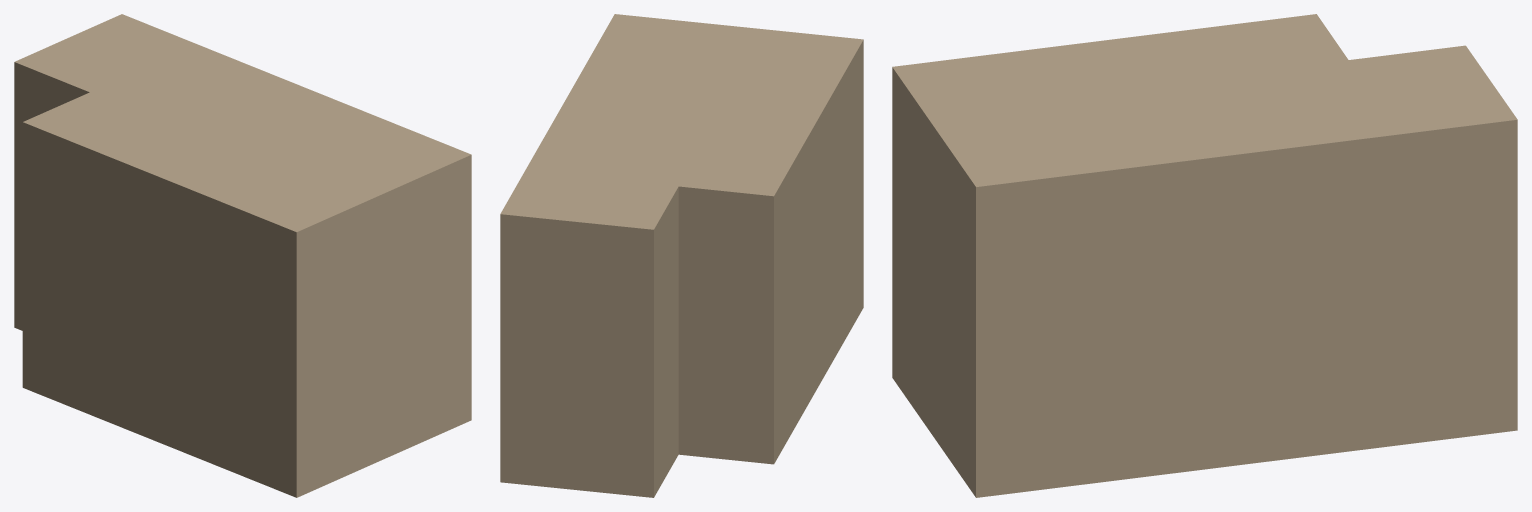
The model's file is bld_106456117.dae.
The picture shows the model from 3 angles, left to right: view 1: azimuth 30°, elevation 25°; view 2: azimuth 150°, elevation 25°; view 3: azimuth 270°, elevation 25°; orthographic projection. The views are drawn at different scales.
Visible parts, largest first — view 1: bld_106456117; view 2: bld_106456117; view 3: bld_106456117.
Part boxes in pixels (left/top/right/bottom): bld_106456117: left=14, top=14, right=471, bottom=497; bld_106456117: left=500, top=14, right=863, bottom=497; bld_106456117: left=892, top=14, right=1517, bottom=497.
Bounding box in the file's own units: 9.56 × 14.59 × 8.
